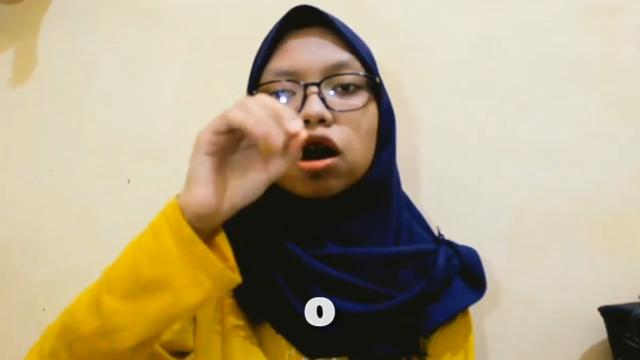O: (190, 98, 308, 209)
